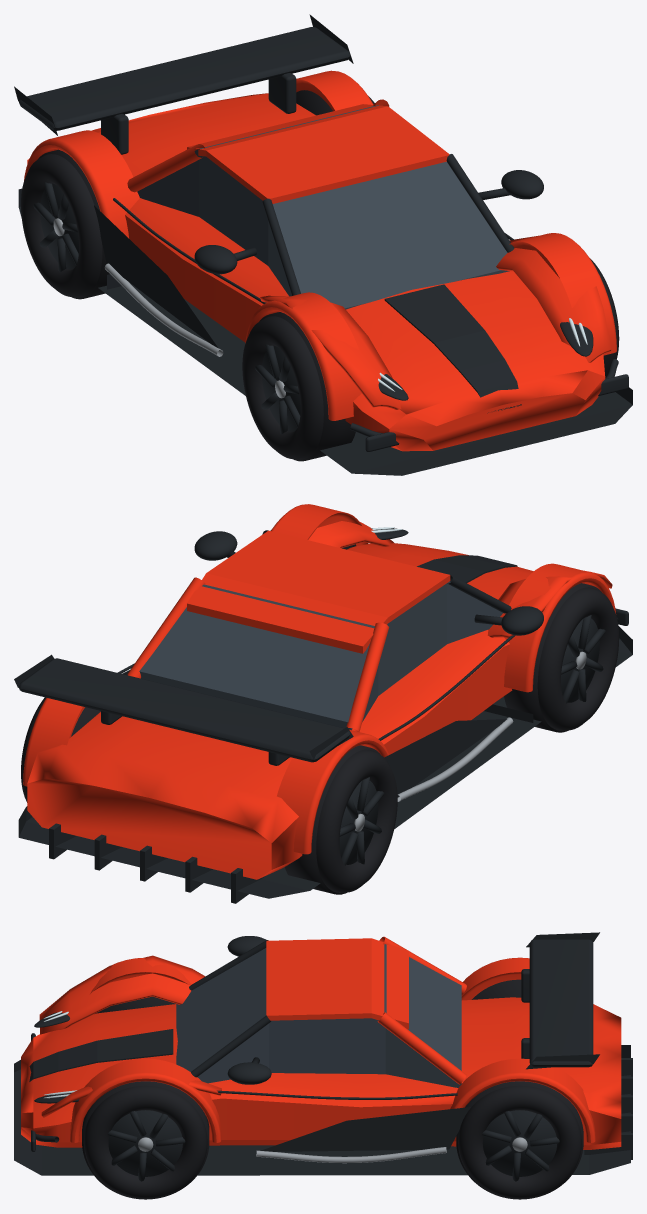
3 views of the same model, one above another, from view 1: azimuth 30°, elevation 25°; view 2: azimuth 150°, elevation 25°; view 3: azimuth 270°, elevation 25° (orthographic). The views are drawn at different scales.
Parts seen in each view (by area): view 1: rounded aerodynamic red coachwork, wraparound cockpit glazing, red roof shell, huge rear aero wing, low carbon undertray, rounded tire shoulder, rounded tire shoulder.001, central carbon bonnet stripe, arched red fender, blended front wing shoulder.001, arched red fender.001, large side cooling intake (+17 smaller); view 2: rounded aerodynamic red coachwork, wraparound cockpit glazing, red roof shell, huge rear aero wing, rounded tire shoulder, rounded tire shoulder.001, low carbon undertray, arched red fender, arched red fender.001, large side cooling intake, rocker aero sill, arched red fender.003 (+15 smaller); view 3: rounded aerodynamic red coachwork, wraparound cockpit glazing, red roof shell, huge rear aero wing, rounded tire shoulder.002, rounded tire shoulder.003, low carbon undertray, large side cooling intake.001, blended front wing shoulder, rocker aero sill, arched red fender.002, arched red fender.003 (+21 smaller).
Part boxes in pixels (x1,y1,x2,y2): rounded aerodynamic red coachwork: [27, 93, 605, 451]; wraparound cockpit glazing: [137, 105, 509, 309]; red roof shell: [187, 104, 449, 203]; huge rear aero wing: [19, 27, 350, 130]; low carbon undertray: [18, 188, 632, 475]; rounded tire shoulder: [242, 316, 323, 459]; rounded tire shoulder.001: [21, 154, 102, 297]; central carbon bonnet stripe: [384, 284, 521, 413]; arched red fender: [245, 292, 361, 420]; blended front wing shoulder.001: [496, 235, 611, 362]; arched red fender.001: [24, 130, 139, 238]; large side cooling intake: [94, 205, 219, 350]; rounded aerodynamic red coachwork: [27, 543, 533, 879]; wraparound cockpit glazing: [139, 581, 502, 730]; red roof shell: [187, 530, 450, 653]; huge rear aero wing: [19, 658, 350, 762]; rounded tire shoulder: [537, 587, 619, 730]; rounded tire shoulder.001: [316, 749, 397, 892]; low carbon undertray: [18, 626, 632, 898]; arched red fender: [504, 563, 616, 692]; arched red fender.001: [277, 729, 389, 854]; large side cooling intake: [384, 719, 506, 797]; rocker aero sill: [395, 704, 533, 823]; arched red fender.003: [23, 697, 84, 786]; rounded aerodynamic red coachwork: [21, 997, 621, 1149]; wraparound cockpit glazing: [176, 944, 461, 1087]; red roof shell: [266, 938, 408, 1029]; huge rear aero wing: [529, 939, 593, 1067]; rounded tire shoulder.002: [83, 1085, 207, 1199]; rounded tire shoulder.003: [458, 1085, 581, 1199]; low carbon undertray: [14, 1045, 630, 1175]; large side cooling intake.001: [260, 1107, 471, 1151]; blended front wing shoulder: [39, 955, 205, 1034]; rocker aero sill: [215, 1145, 450, 1170]; arched red fender.002: [70, 1058, 221, 1142]; arched red fender.003: [450, 1058, 595, 1142].
Size of the model in its own units: 0.5375 by 0.2944 by 1.
